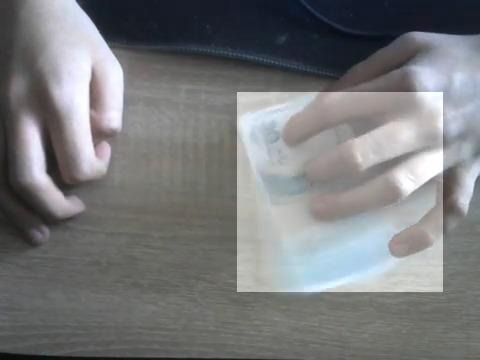20leva: (237, 92, 443, 292)
